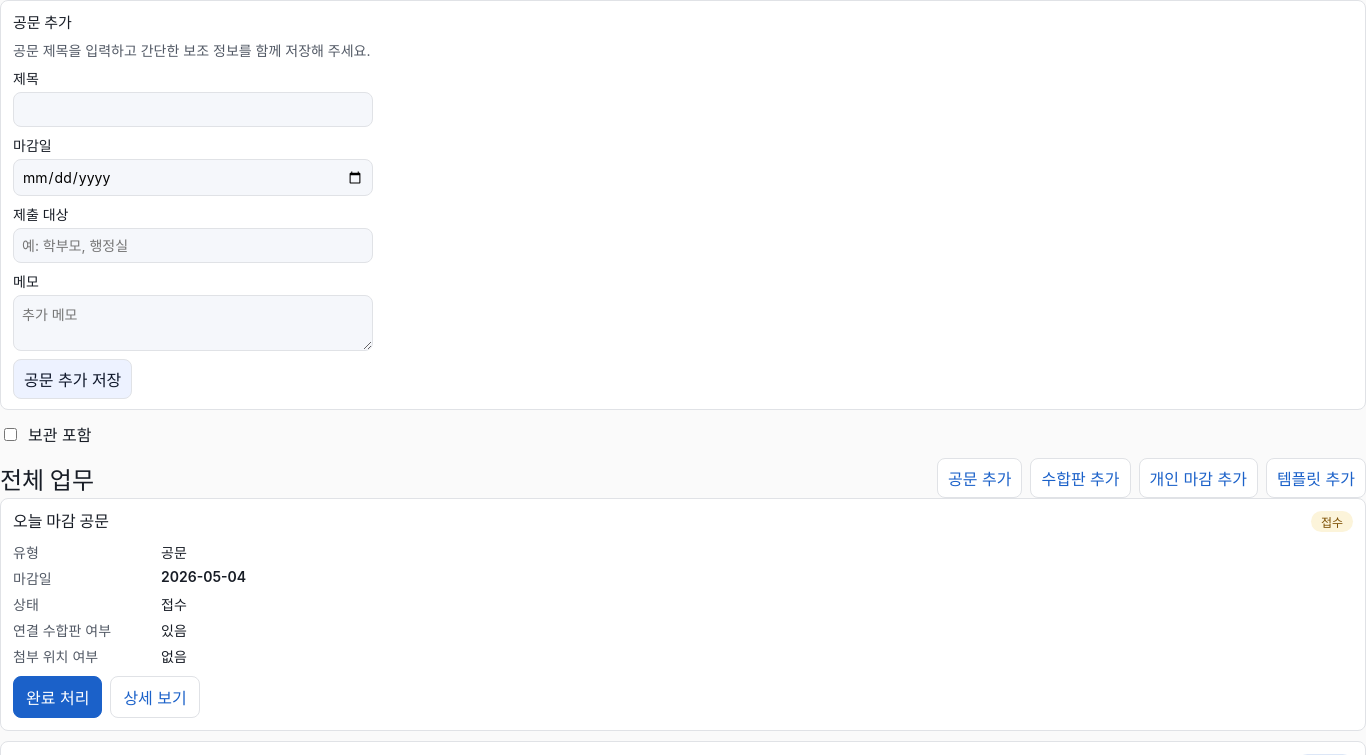
Scenario: TaskListPage create intent form › shows accessible error when title is missing
Click the button "공문 추가 저장". click: (73, 379)
box: [13,359,132,399]
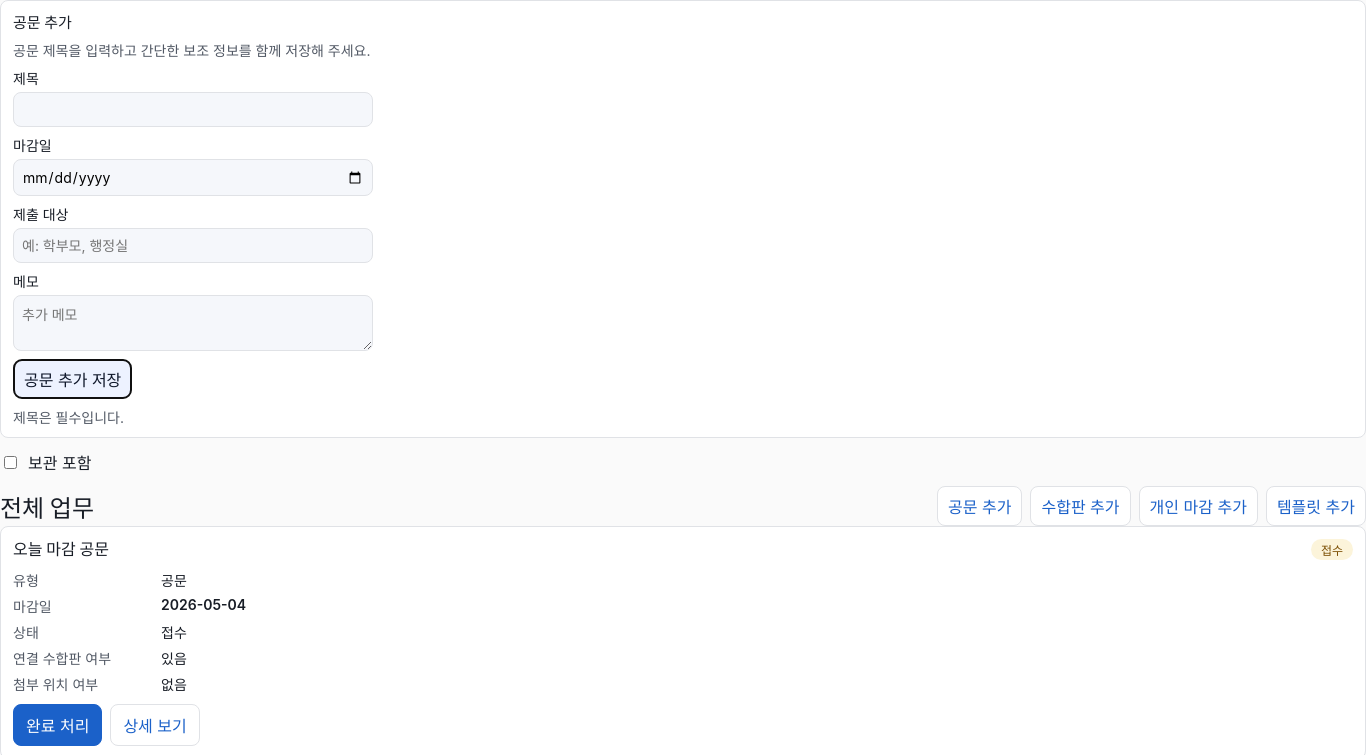
Expected: the message reads "제목은 필수입니다.", [13,409,124,426]
